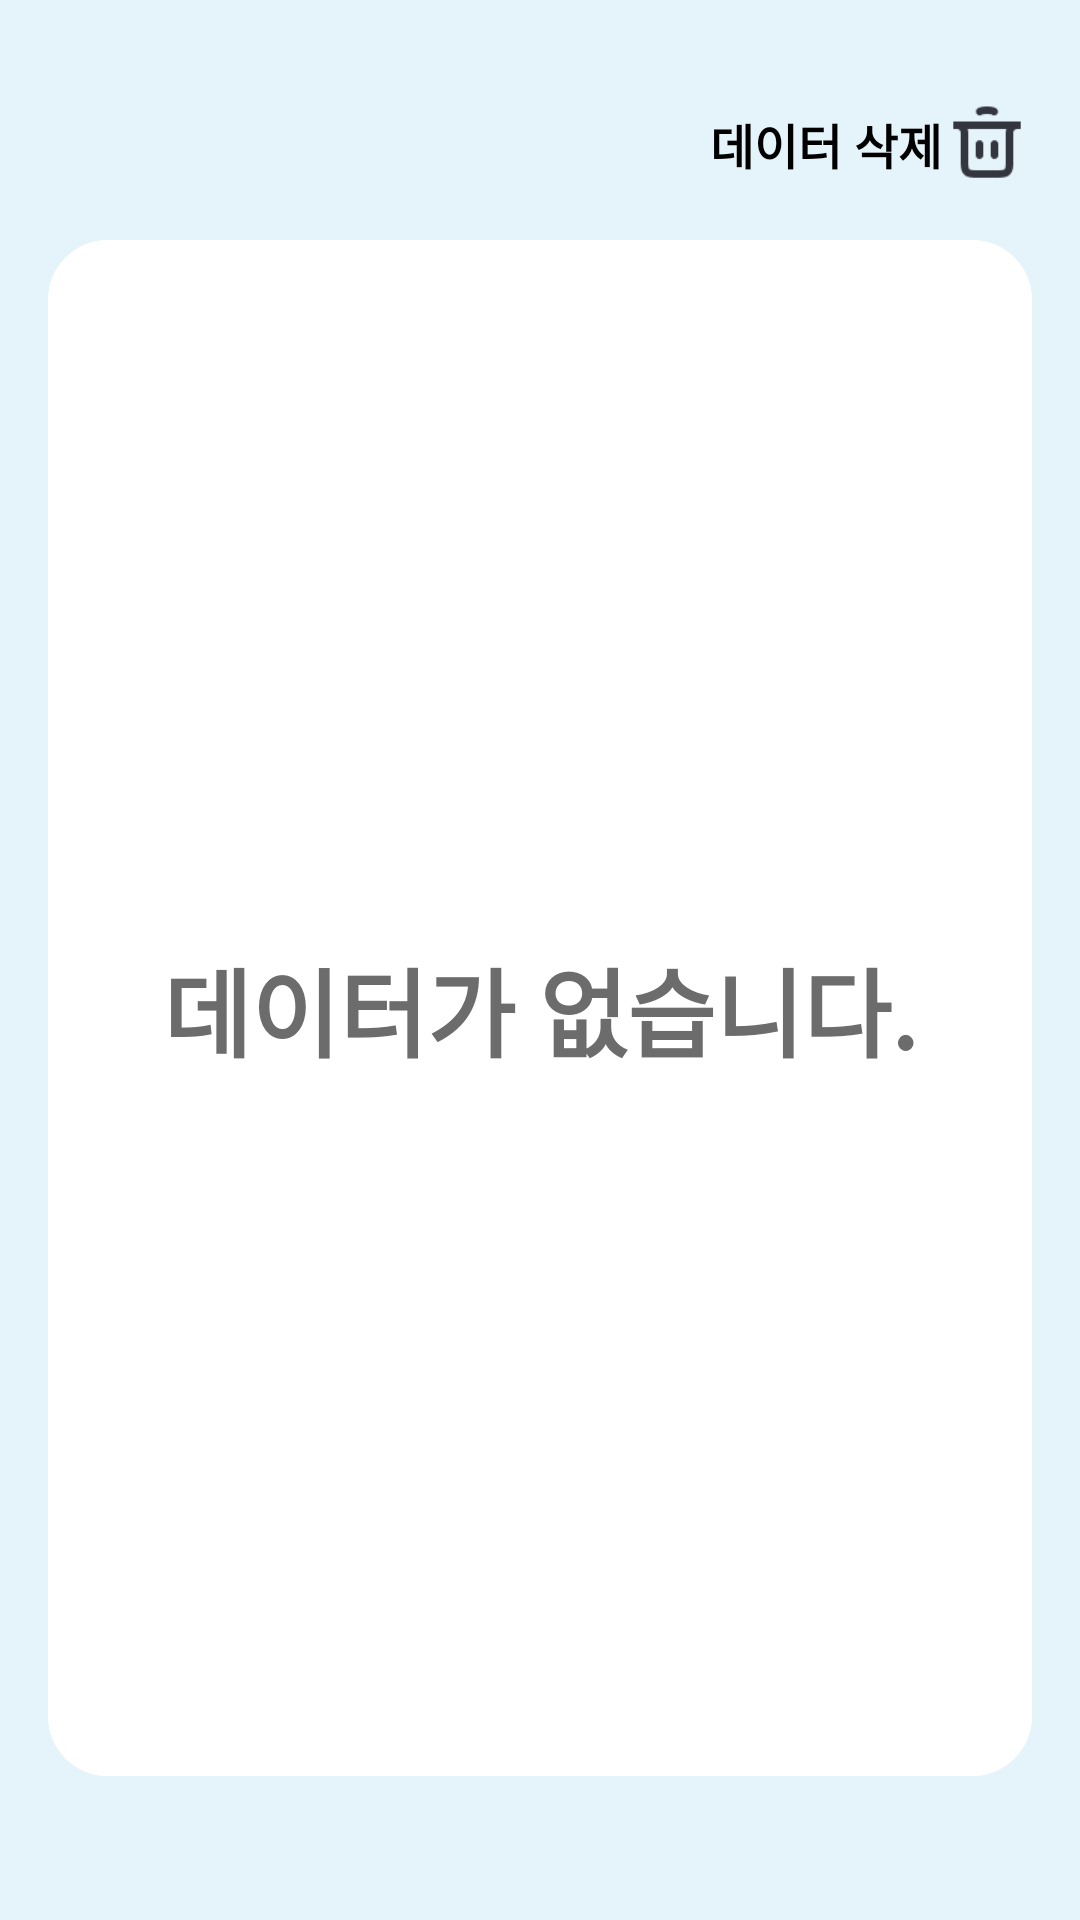

Where to tap for icons on this 1080x1920 app screen, as (x=x, y=y):
trash: (x=987, y=142)
